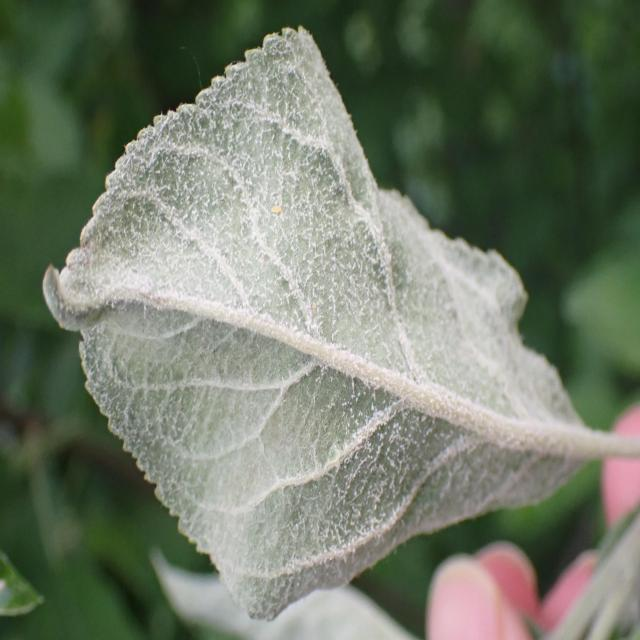Powdery_mildew: (38, 5, 596, 624)
